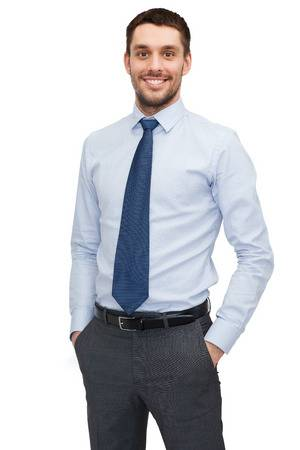F_belt: (88, 305, 218, 324)
F_dress pants: (68, 303, 223, 450)
F_shirt: (66, 104, 275, 355)
F_tie: (107, 113, 164, 323)
